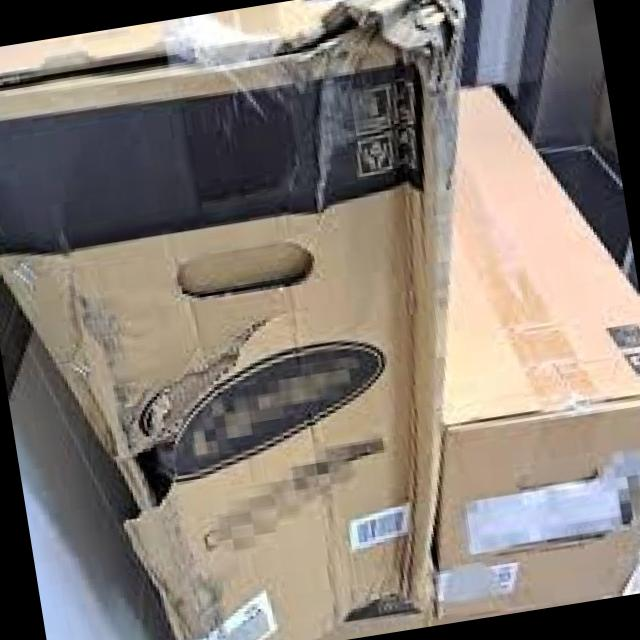tear: (5, 1, 463, 96), (109, 320, 268, 530)
